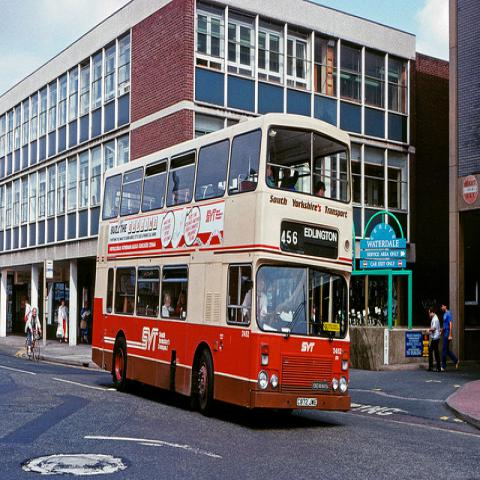bus: (91, 115, 352, 418)
